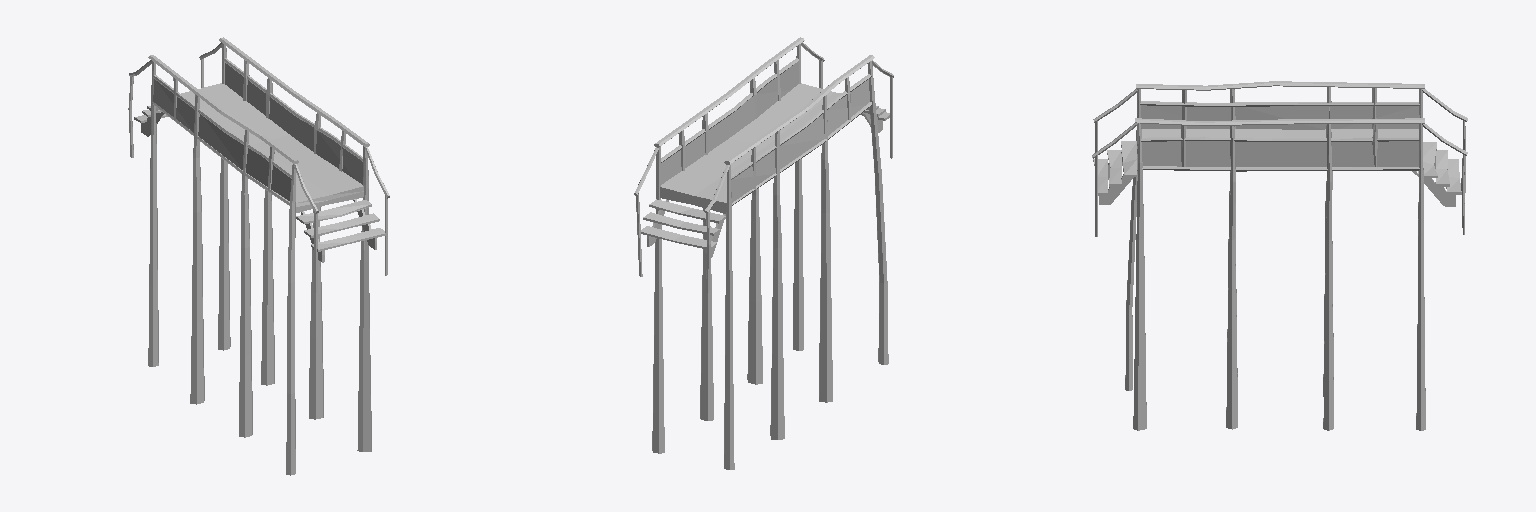
The model's file is bridge_big.obj.
The picture shows the model from 3 angles: view 1: azimuth 30°, elevation 25°; view 2: azimuth 150°, elevation 25°; view 3: azimuth 270°, elevation 25°; orthographic projection.
Visible parts, largest first — view 1: bridge_wooden; view 2: bridge_wooden; view 3: bridge_wooden.
Boxes of the visible parts, box(x1,y1,x2,y2) form: bridge_wooden: box(128, 37, 389, 475); bridge_wooden: box(634, 37, 893, 469); bridge_wooden: box(1092, 81, 1467, 430).
Size of the model in its own units: 2.78 by 9.17 by 10.